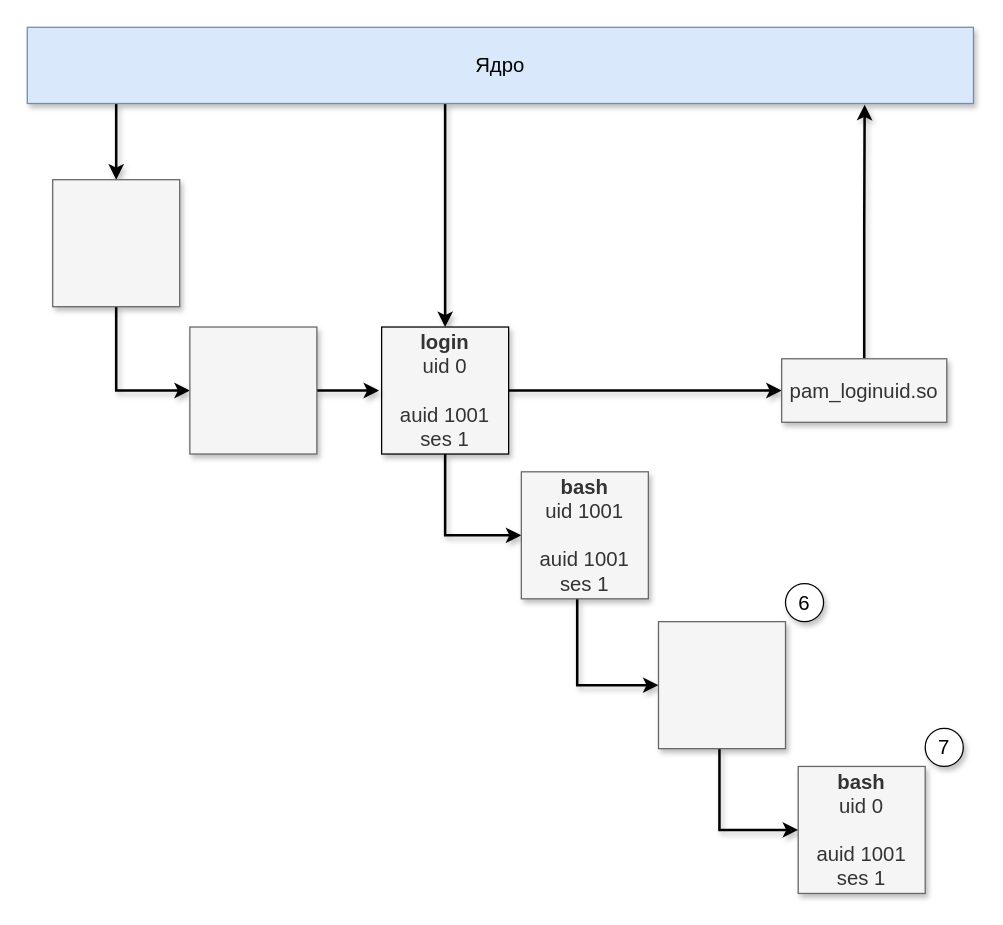
The diagram is 1003 pixels wide and 925 high, and some of its shapes have lost their labels. The centre of each missing label's shape, as x and y in pixels:
"agetty uid 0 auid -1 ses -1" belongs at [254,392].
"init/systemd uid 0 auid -1 ses -1" belongs at [116,244].
"sudo uid 0 auid 1001 ses 1" belongs at [722,686].
